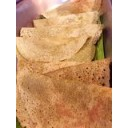dosa: (15, 12, 112, 128)
